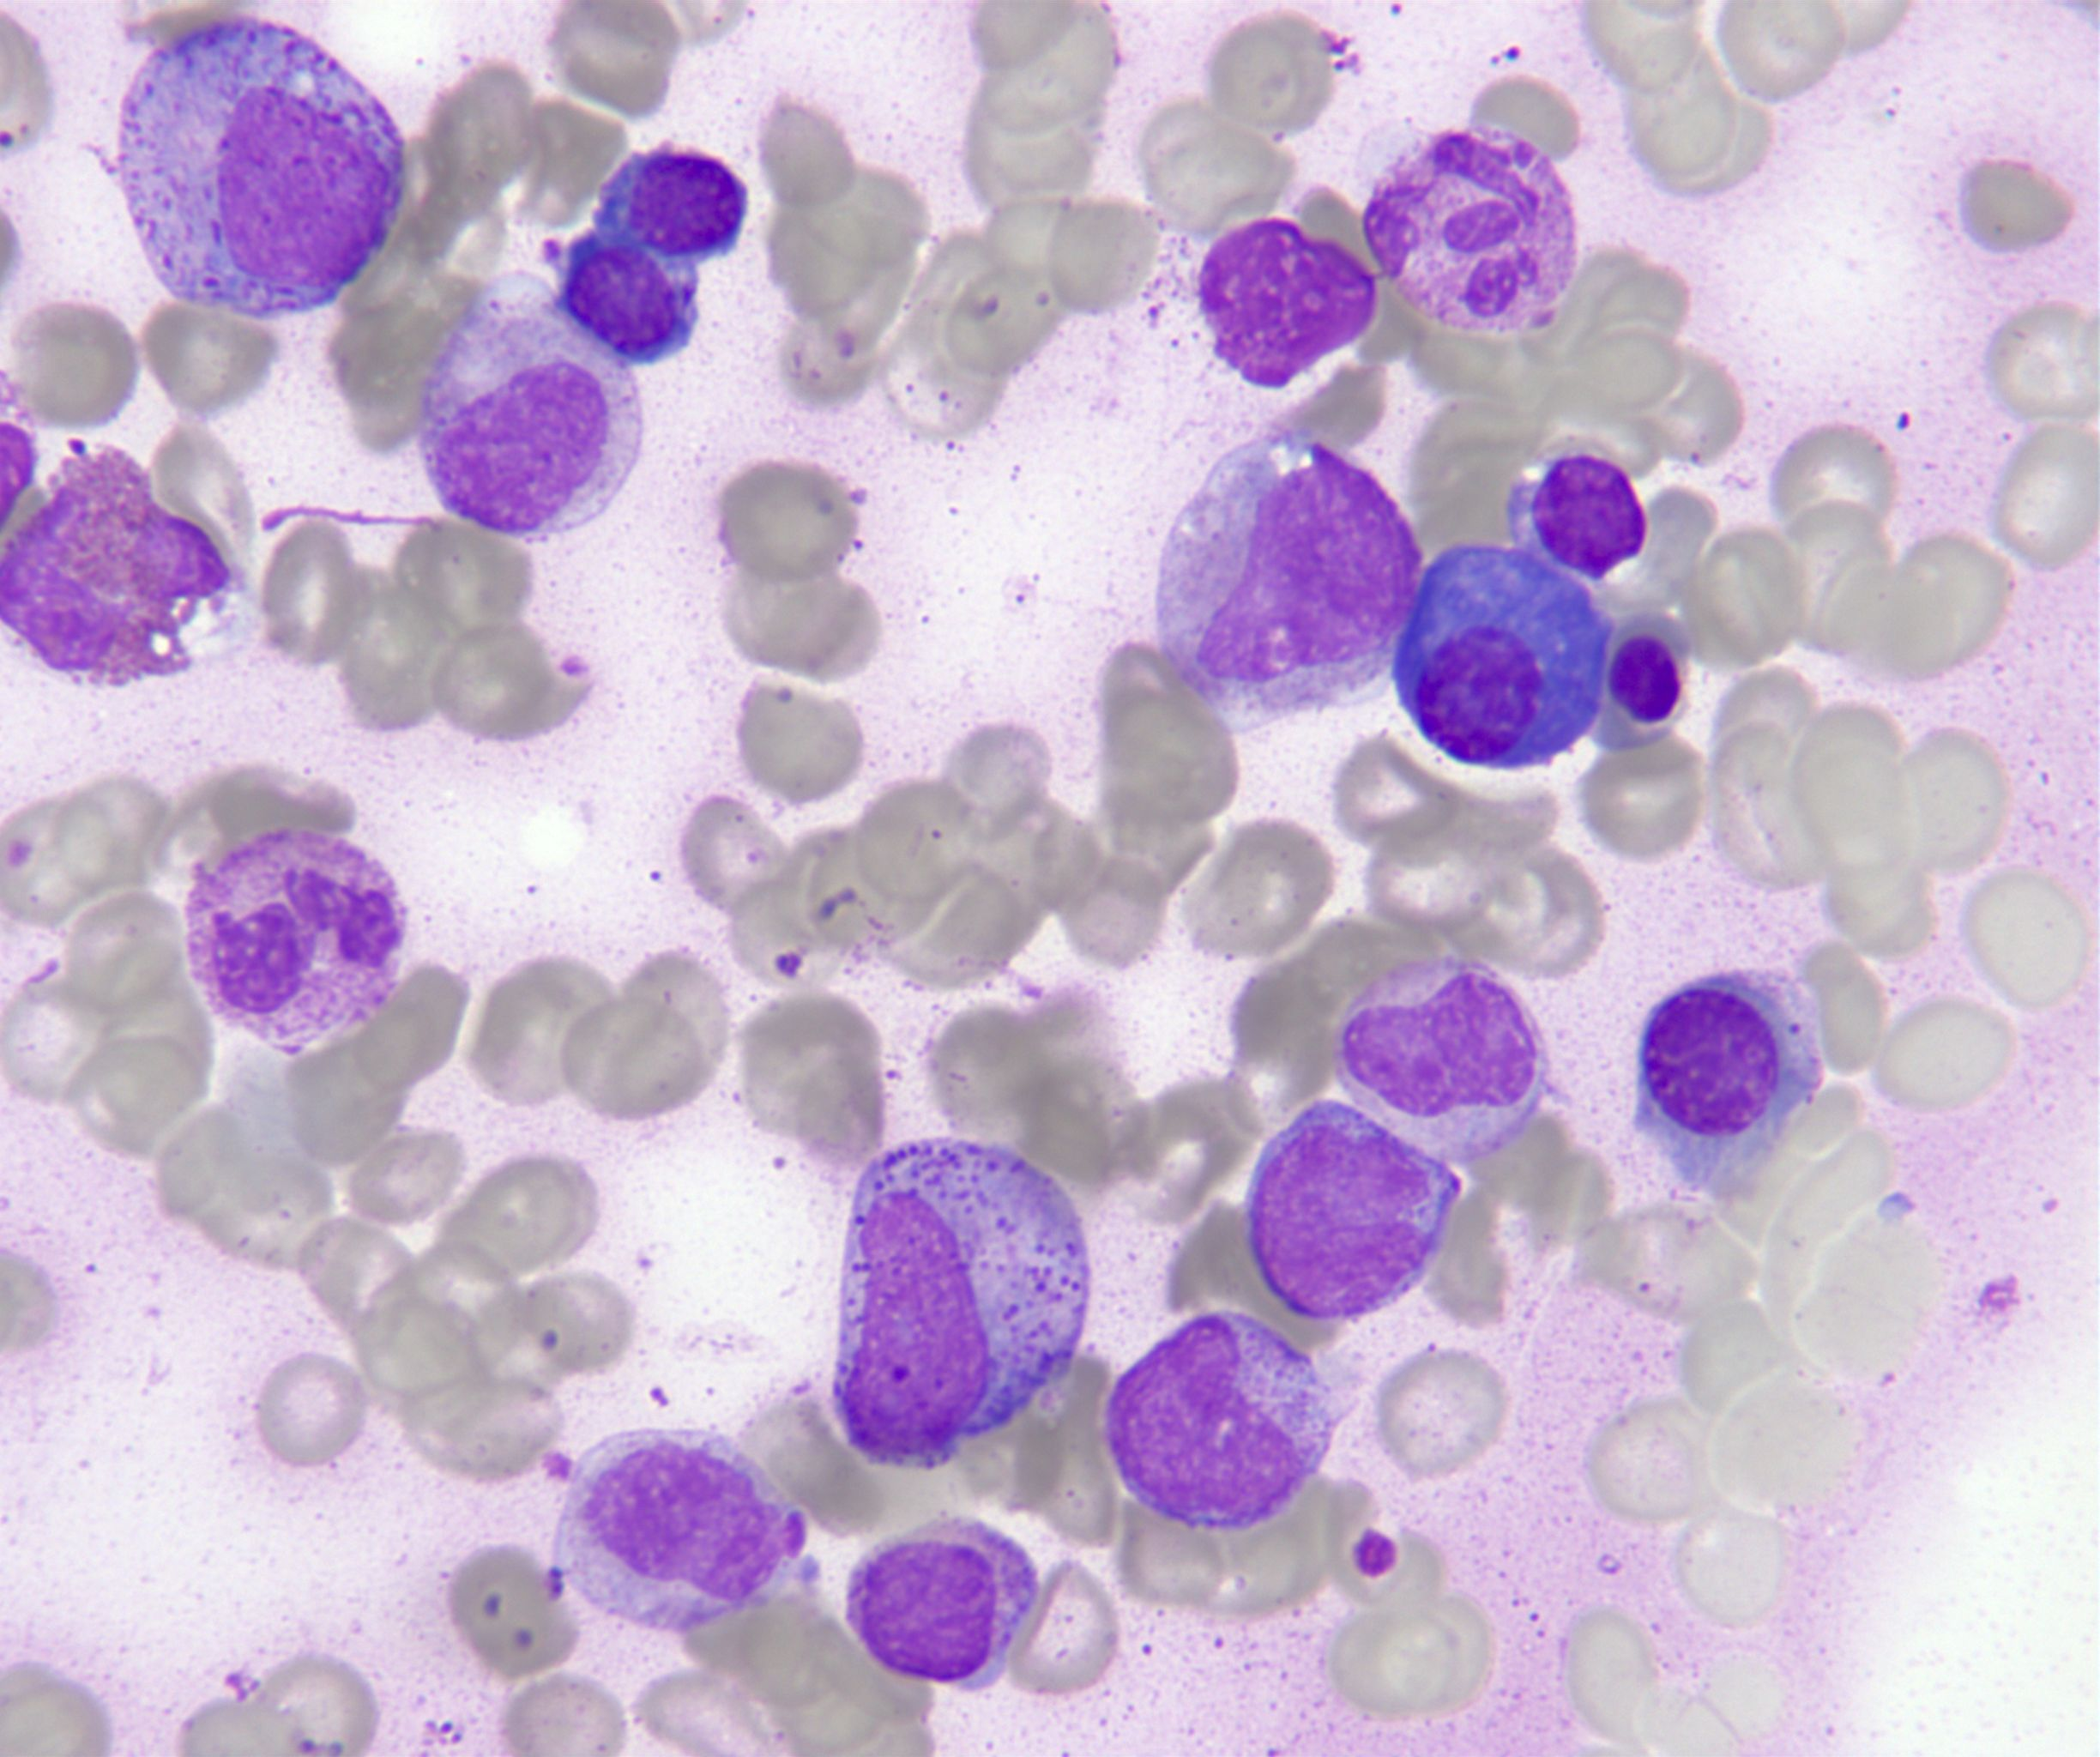2: (832, 1138, 1090, 1467)
23: (1636, 972, 1821, 1204), (541, 234, 699, 366), (591, 148, 747, 265)
24: (1589, 616, 1688, 749)
3: (1156, 436, 1422, 731), (420, 274, 642, 536), (1104, 1312, 1331, 1528), (1247, 1099, 1460, 1319), (846, 1516, 1038, 1694)
32: (1509, 438, 1647, 585)
4: (1333, 960, 1551, 1166)
42: (553, 1429, 808, 1628)
52: (1394, 546, 1612, 771)
6: (187, 831, 406, 1054), (1360, 124, 1575, 333)
E4: (3, 447, 230, 687)
x: (117, 19, 405, 319), (1200, 220, 1376, 391)
